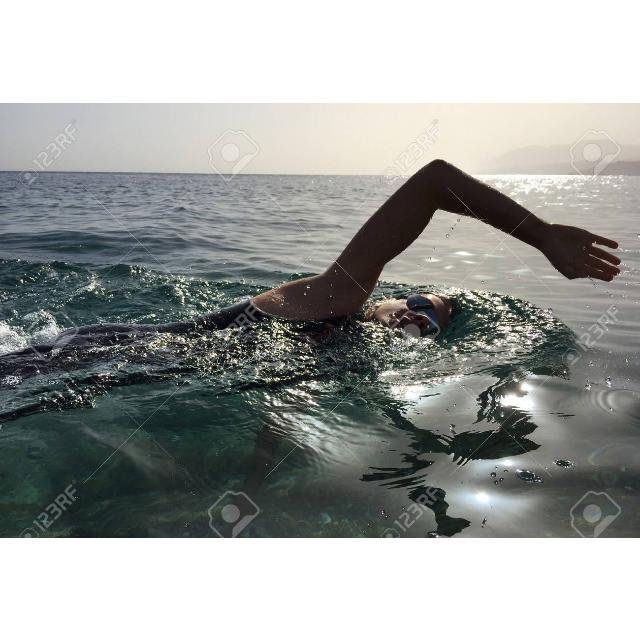human: (239, 156, 624, 367)
